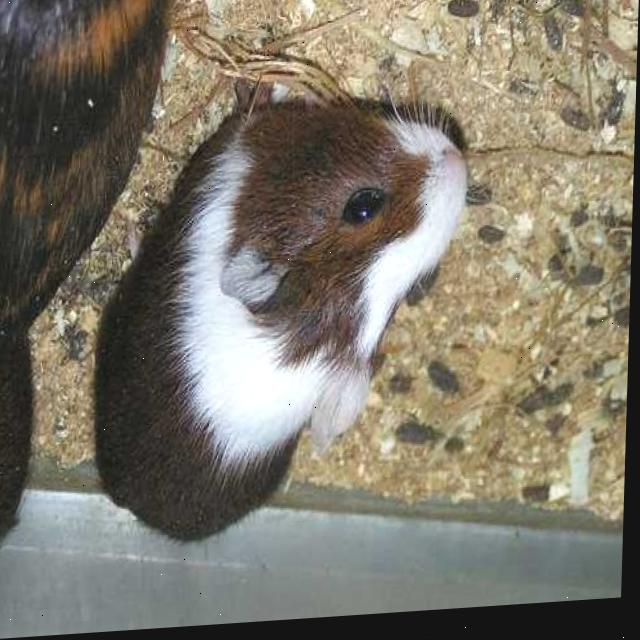guinea pig: (100, 89, 470, 549), (0, 0, 170, 565)
